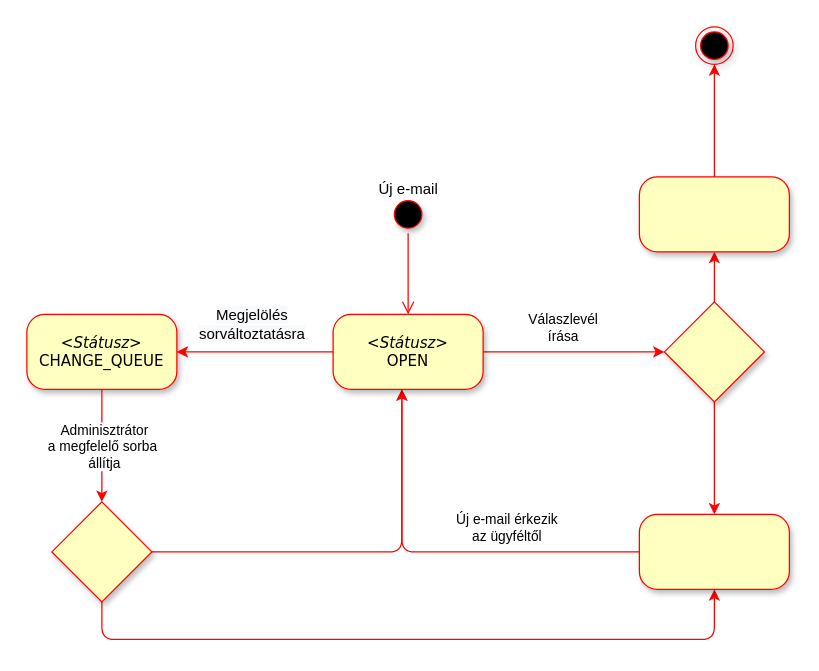
The diagram is 819 pixels wide and 671 high, and some of its shapes have lost their labels. The shapes that lost their labels are listed below. From the top down, each one's centre as x and y in pixels, then its label:
[715,216]: <Státusz> RESOLVED
[715,553]: <Státusz> CLARIFICATION
